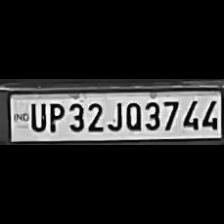2: (84, 99, 104, 133)
3: (64, 98, 84, 132), (142, 99, 160, 131)
4: (179, 97, 199, 131), (198, 96, 218, 130)
7: (160, 97, 178, 130)
J: (105, 99, 123, 131)
P: (46, 100, 64, 132)
Q: (123, 99, 143, 131)
U: (27, 100, 46, 132)
